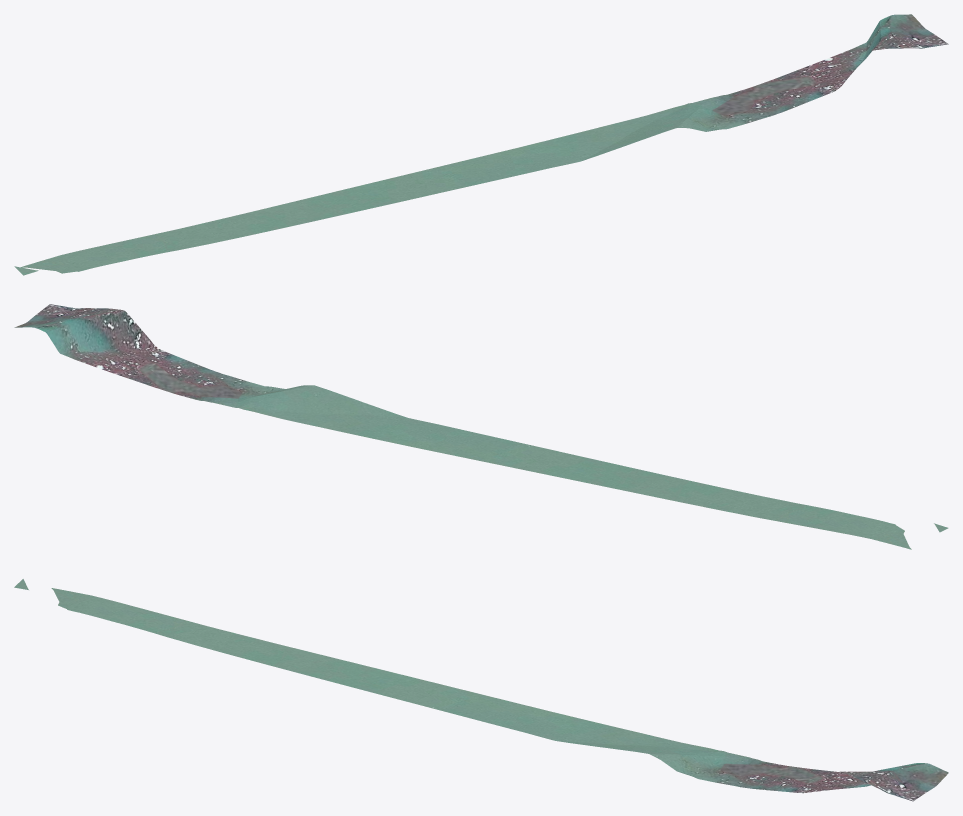
File: Tile_+008_+008_L19_00030.glb
3 views of the same model, one above another, from view 1: azimuth 30°, elevation 25°; view 2: azimuth 150°, elevation 25°; view 3: azimuth 330°, elevation 25° (orthographic). The views are drawn at different scales.
Parts seen in each view (by area): view 1: rtc; view 2: rtc; view 3: rtc.
Boxes of the visible parts, x1=… form: rtc: x1=14, y1=14, x2=948, y2=275; rtc: x1=14, y1=304, x2=948, y2=549; rtc: x1=14, y1=579, x2=948, y2=801.
Bounding box in the file's own units: 96.13 × 4.28 × 6.72.
1 material, 1 textured.
